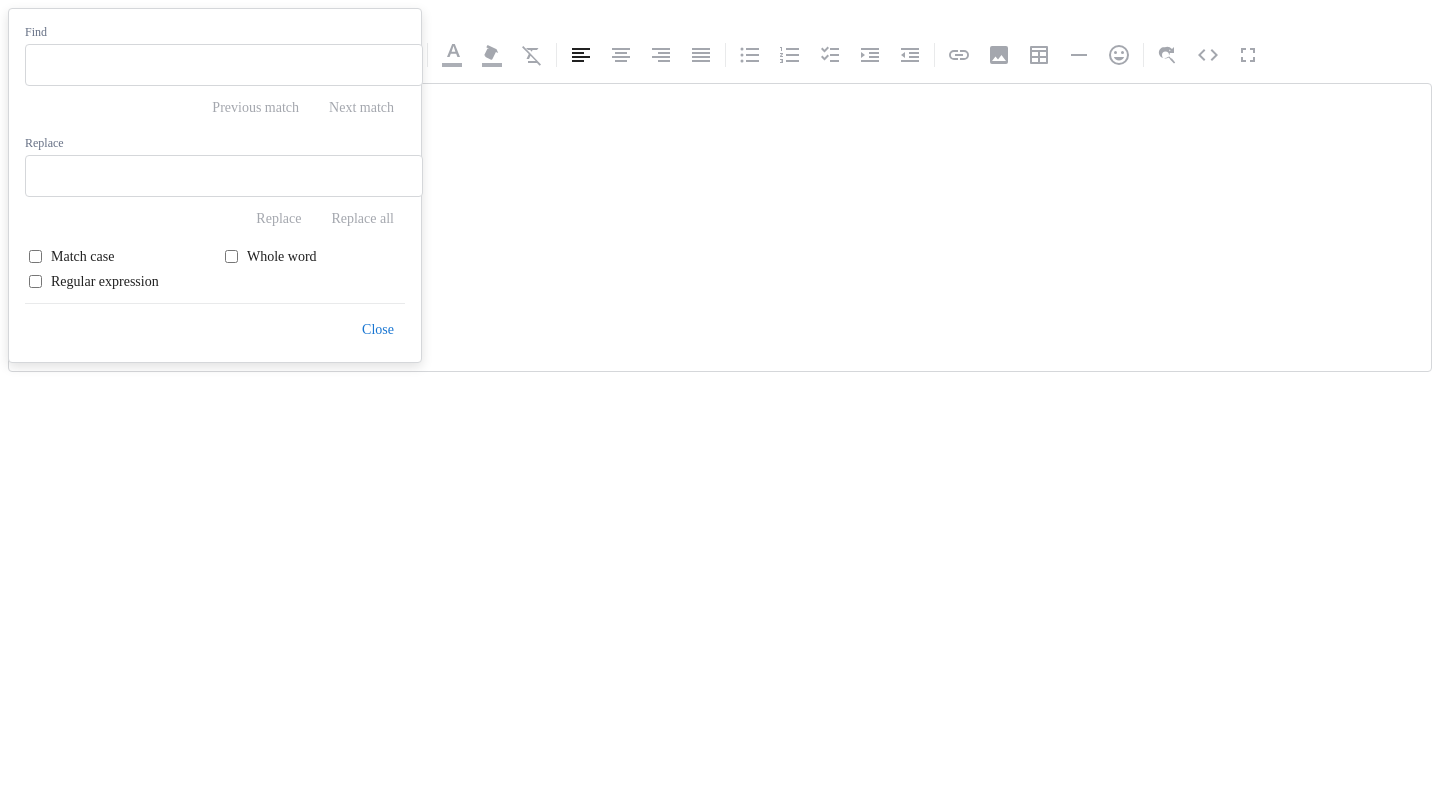
Test: find and replace › closes without changing anything
The width and height of the screenshot is (1440, 810).
Type "water" into the field labelled "Find". click: (224, 65)
box: [25,44,423,86]
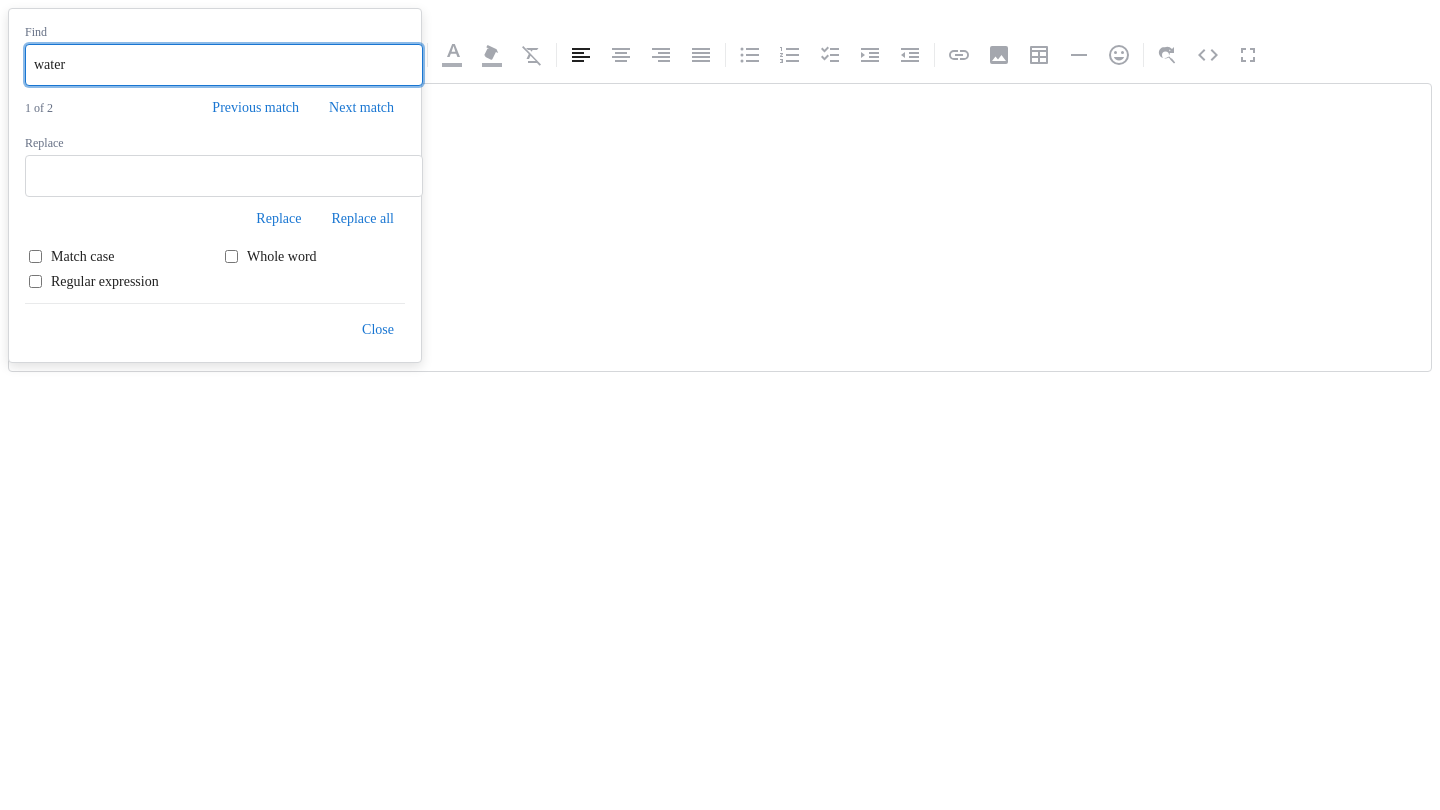
Click the button "Close". click: (378, 330)
box: [351,314,405,346]
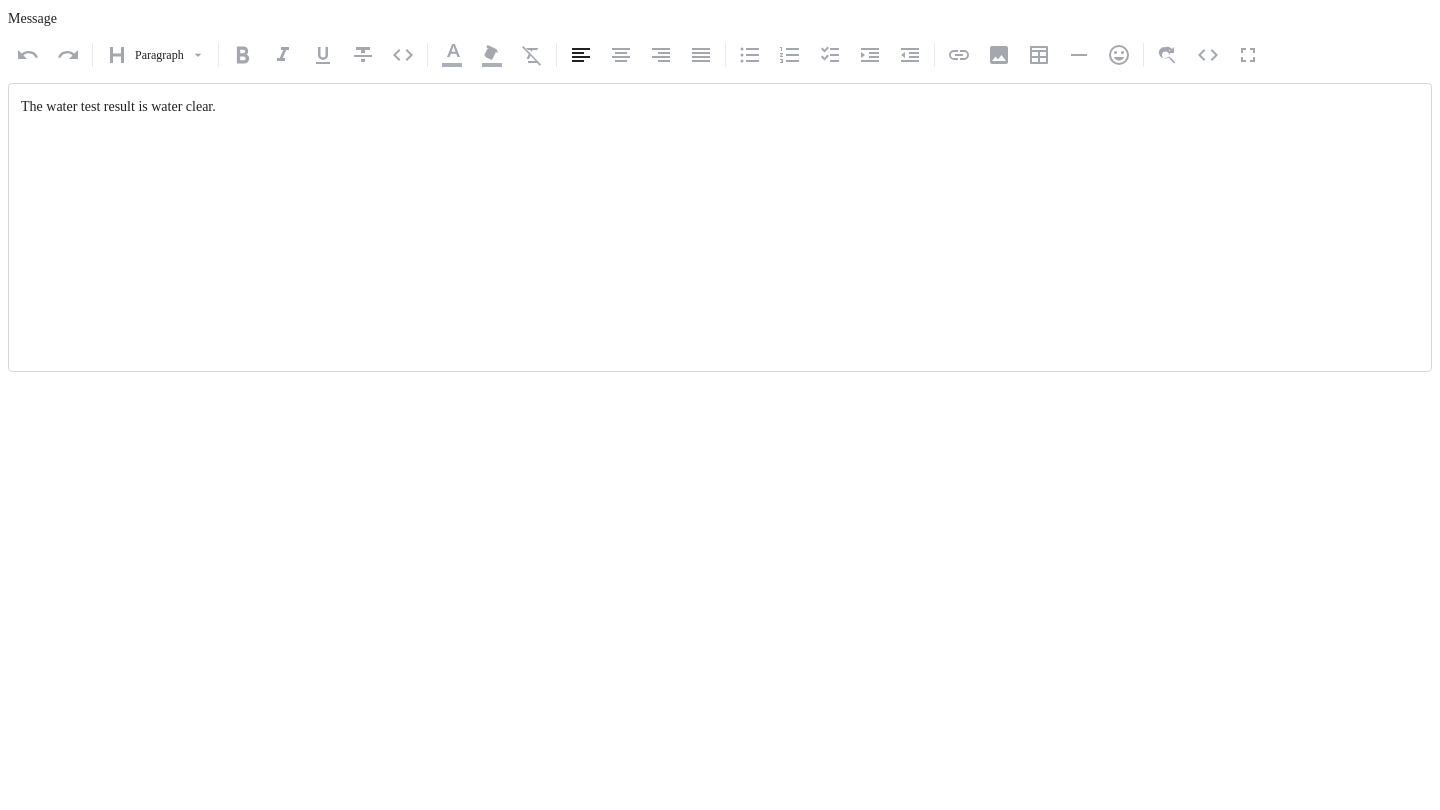
Now the element "Find and replace" is gone
